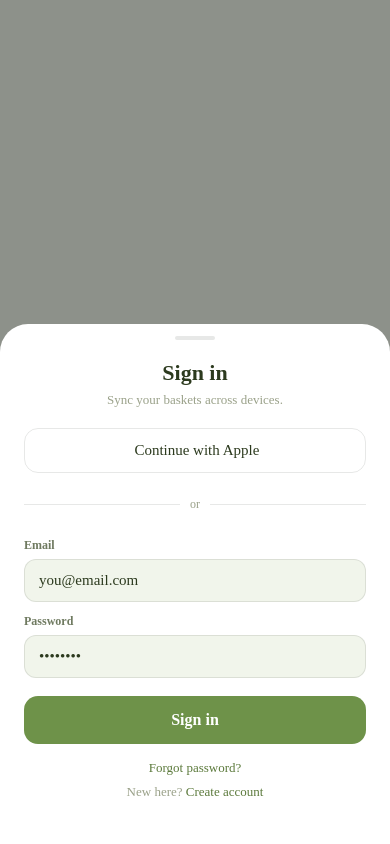
Scenario: AuthSheet › validation › shows error when submitting invalid email
In the field with test id "auth-email": (195, 580) [24,559,366,602], type "notanemail"
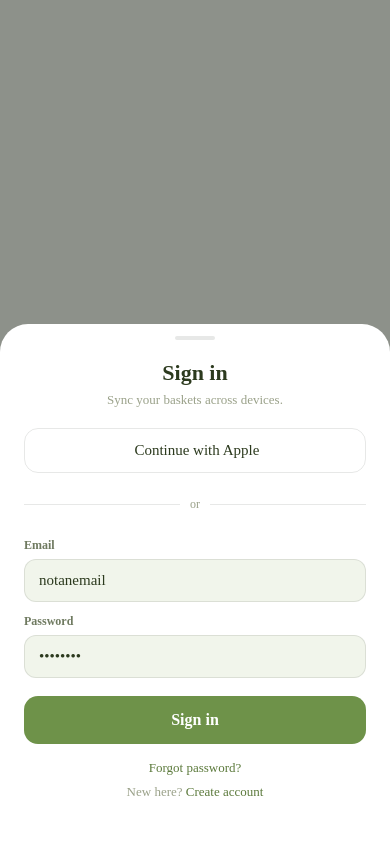
In the password field with test id "auth-password": (195, 656) [24,635,366,678], type "password123"
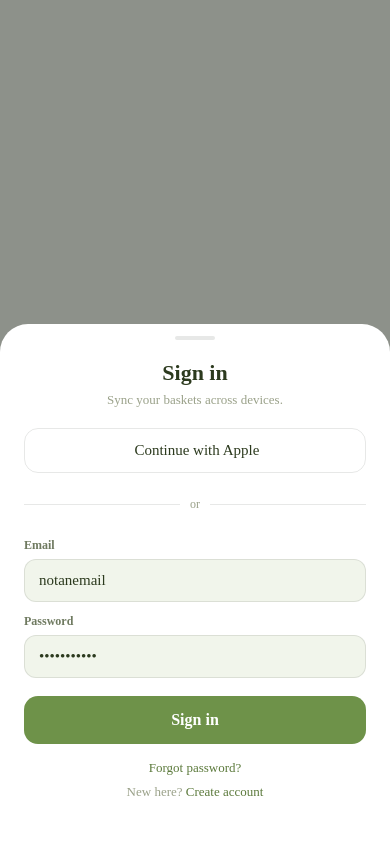
Click the element with test id "auth-submit": (195, 720) [24,696,366,744]
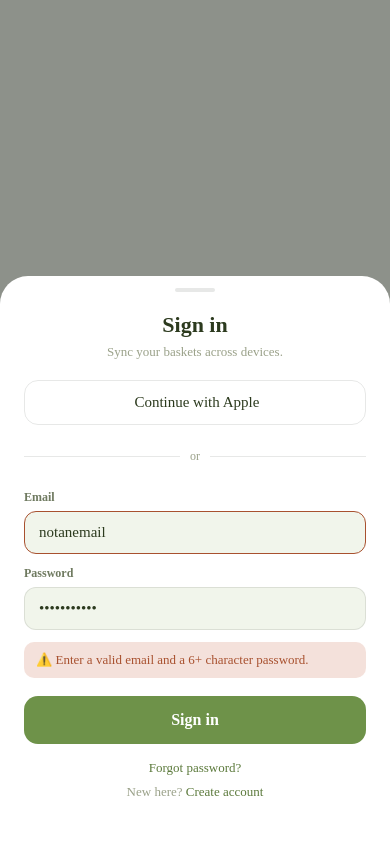
Expected: the text "⚠️ Enter a valid email and a 6+ character password." is shown, [36,652,354,668]
